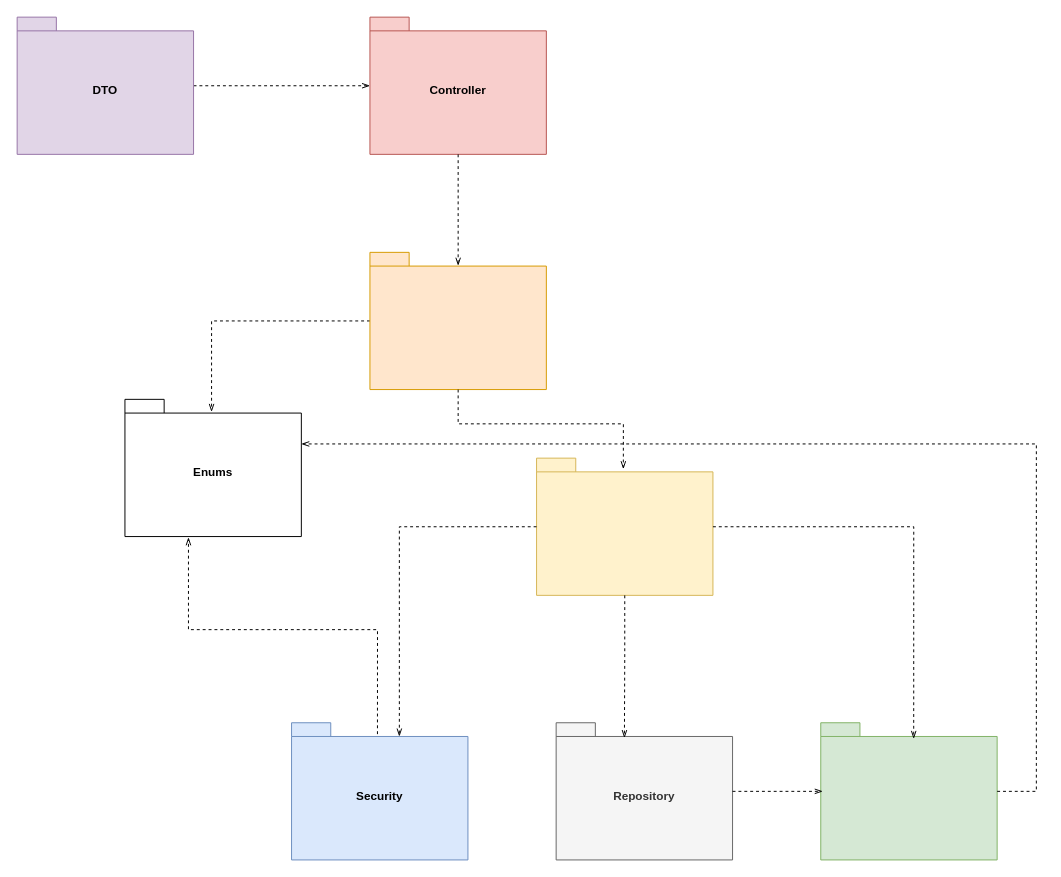
Image size: 1061x877. Some labels were removed from this diagram. The shapes that lost their labels are listed below. From the top down, each one's centre as x and y in pixels, then its label:
the point at 457,320: Facade
the point at 624,526: Service
the point at 908,791: Model
